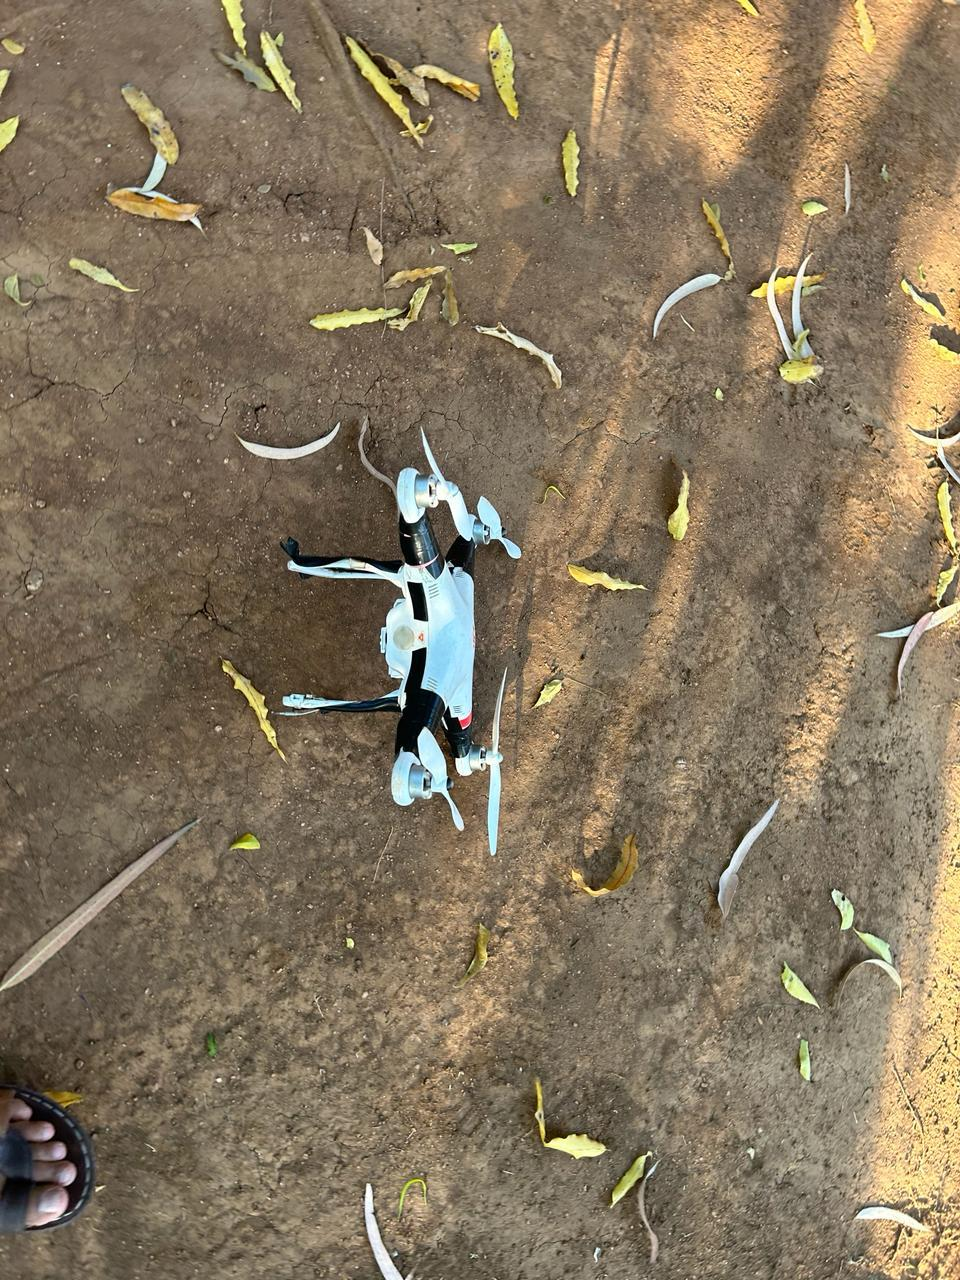drone: (268, 431, 541, 852)
